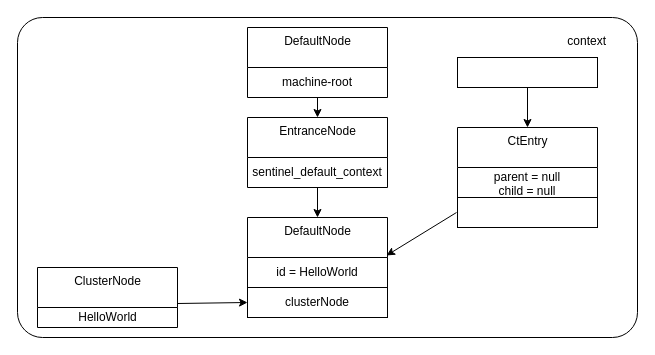
This 655x355 diagram has some shape labels left out. The centre of each missing label's shape, as x and y in pixels:
"curEntry" goes at point (527, 72).
"curNode" goes at point (527, 212).
